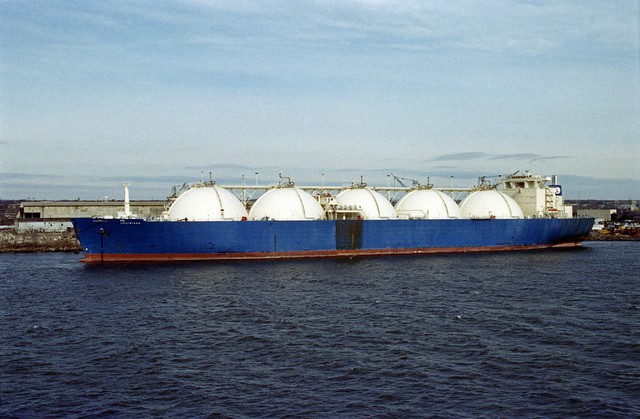LNG_ship: (65, 163, 602, 260)
